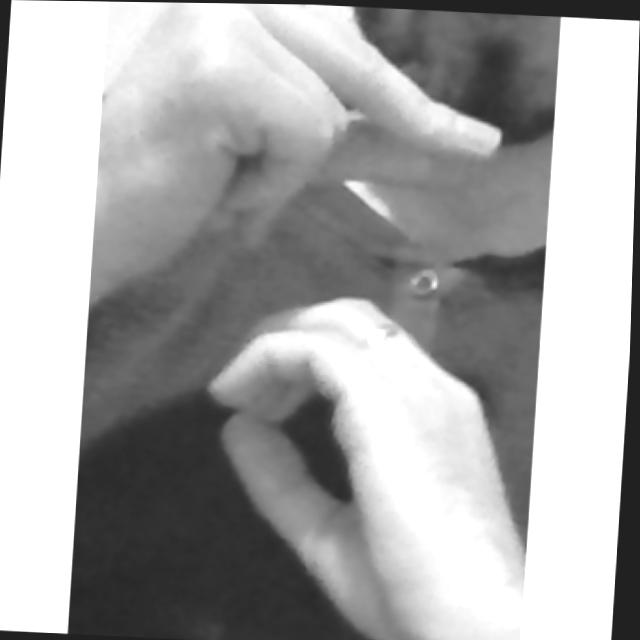O--: (70, 1, 556, 640)
